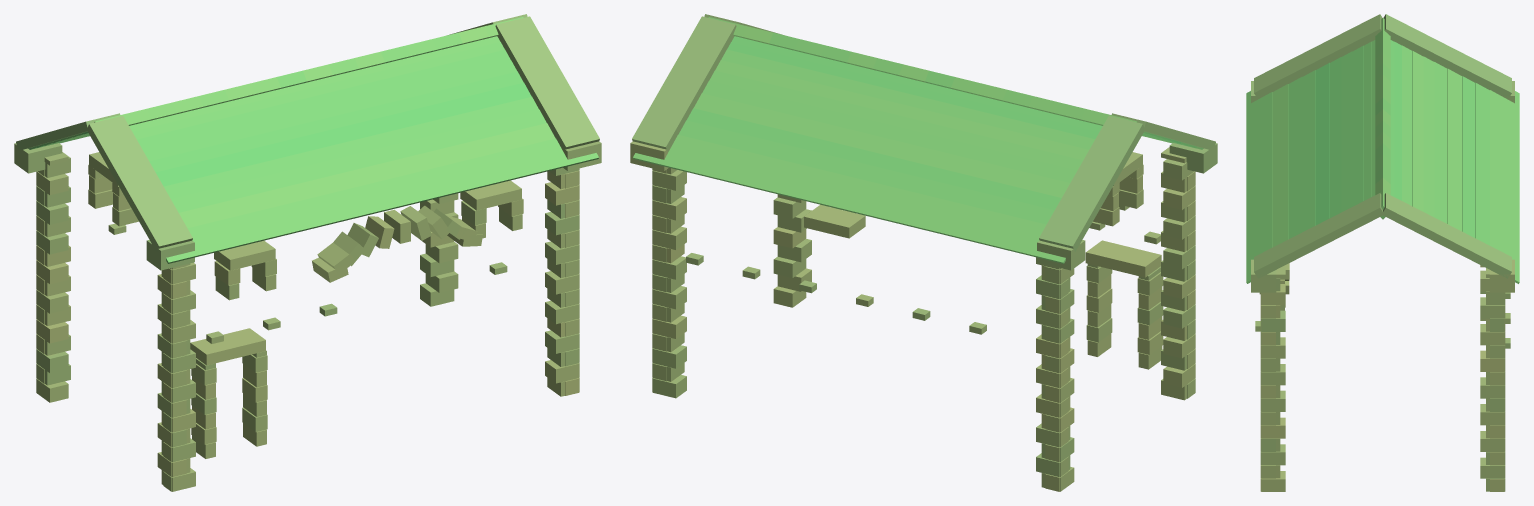
The model's file is SM_Bld_217_Stone.glb.
3 views of the same model, side by side, from view 1: azimuth 30°, elevation 25°; view 2: azimuth 150°, elevation 25°; view 3: azimuth 270°, elevation 25° (orthographic). The views are drawn at different scales.
Parts seen in each view (by area): view 1: SM_Bld_217_Stone; view 2: SM_Bld_217_Stone; view 3: SM_Bld_217_Stone.
Boxes of the visible parts, x1=… form: SM_Bld_217_Stone: x1=14, y1=14, x2=601, y2=491; SM_Bld_217_Stone: x1=630, y1=14, x2=1217, y2=491; SM_Bld_217_Stone: x1=1246, y1=14, x2=1519, y2=491.
Bounding box in the file's own units: 9.34 × 6.55 × 5.57.
